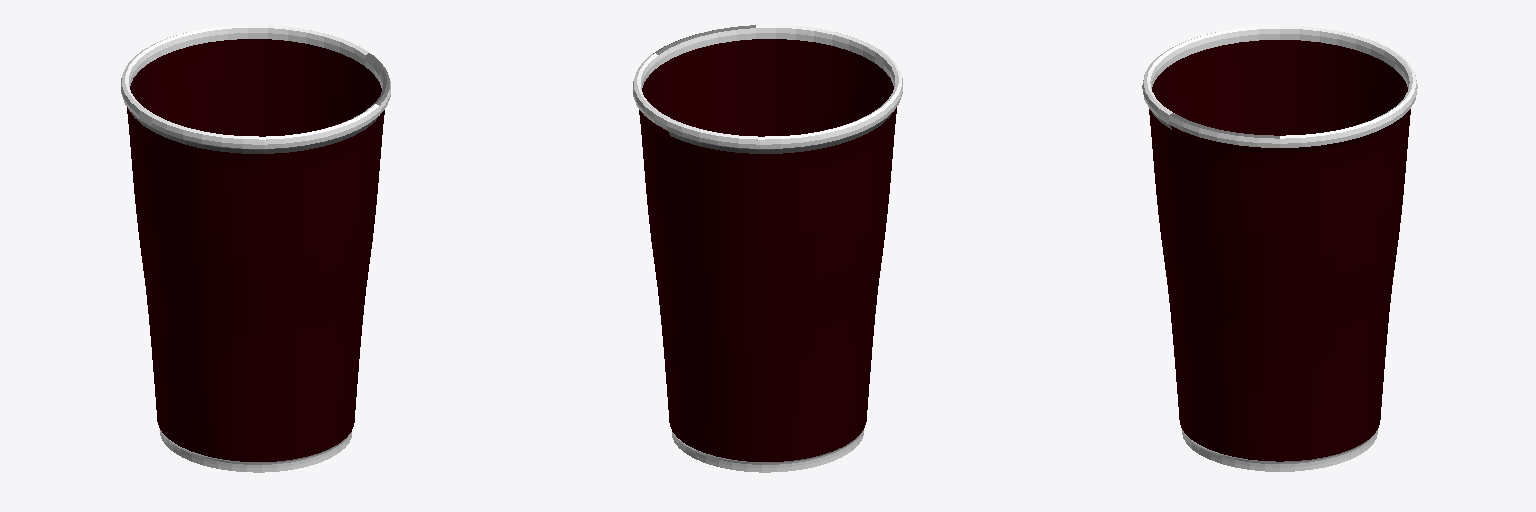
File: costacup.obj
3 renders of one model, left to right at view 1: azimuth 30°, elevation 25°; view 2: azimuth 150°, elevation 25°; view 3: azimuth 270°, elevation 25°, orthographic.
Visible parts, largest first — view 1: pCylinder1; view 2: pCylinder1; view 3: pCylinder1.
Part boxes in pixels (left/top/right/bottom): pCylinder1: left=121, top=25, right=390, bottom=472; pCylinder1: left=633, top=25, right=902, bottom=472; pCylinder1: left=1142, top=26, right=1417, bottom=471.
Bounding box in the file's own units: 3.06 × 4.4 × 3.13.